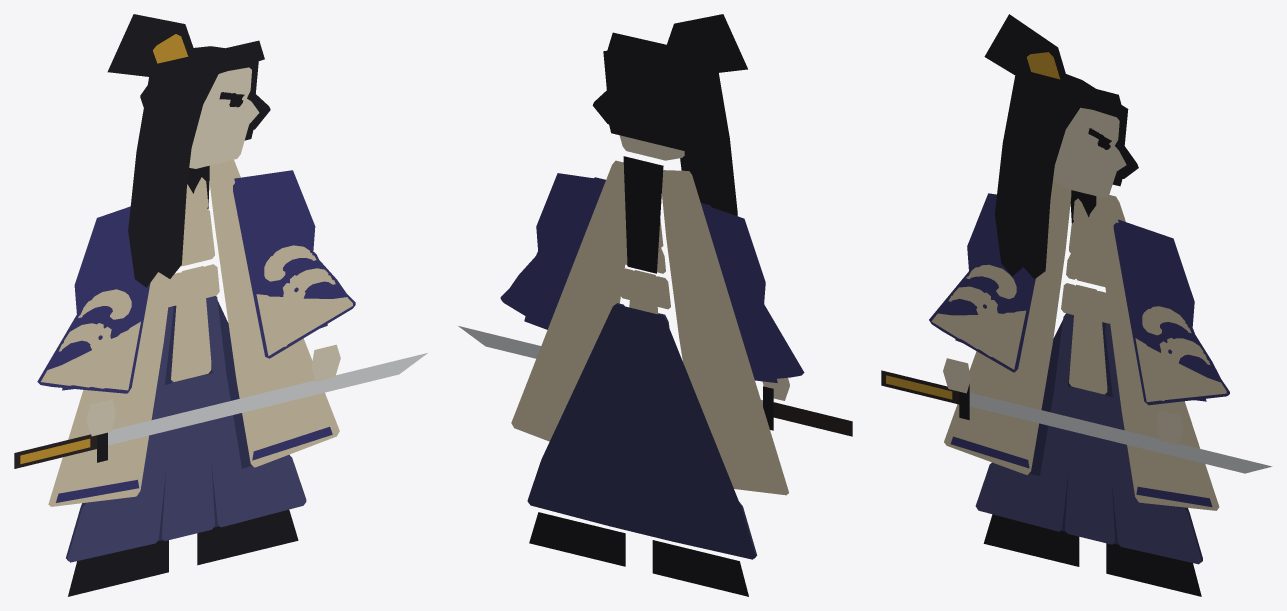
File: samurai-v4.glb
3 views of the same model, side by side, from view 1: azimuth 30°, elevation 25°; view 2: azimuth 150°, elevation 25°; view 3: azimuth 330°, elevation 25° (orthographic). The views are drawn at different scales.
Parts seen in each view (by area): view 1: sumi_hair, robe_L, kami_sleeve_L, robe_R, kami_sleeve_R, hakama_L, hakama_R, sword_paper, hakama_mid, face, kami_hair, feet_L (+10 smaller); view 2: hakama_back, robe_R, kami_hair, robe_L, sumi_sleeve_L, sumi_sleeve_R, sumi_hair, neck, feet_R, feet_L, sword_paper, kami_sleeve_R (+3 smaller); view 3: sumi_hair, robe_R, robe_L, kami_sleeve_L, kami_sleeve_R, hakama_R, hakama_L, sword_paper, hakama_mid, face, kami_hair, feet_R (+10 smaller).
Part boxes in pixels (<box>): sumi_hair: <box>128,40,264,287</box>; robe_L: <box>209,160,339,467</box>; kami_sleeve_L: <box>233,177,355,358</box>; robe_R: <box>48,272,171,506</box>; kami_sleeve_R: <box>37,227,150,393</box>; hakama_L: <box>203,296,306,527</box>; hakama_R: <box>67,306,174,562</box>; sword_paper: <box>14,353,427,468</box>; hakama_mid: <box>161,374,214,540</box>; face: <box>189,67,259,168</box>; kami_hair: <box>107,14,270,140</box>; feet_L: <box>197,509,298,565</box>; hakama_back: <box>527,304,755,559</box>; robe_R: <box>662,170,788,495</box>; kami_hair: <box>592,14,747,153</box>; robe_L: <box>511,160,625,441</box>; sumi_sleeve_L: <box>524,173,605,329</box>; sumi_sleeve_R: <box>701,204,777,382</box>; sumi_hair: <box>607,32,737,215</box>; neck: <box>623,156,663,273</box>; feet_R: <box>652,540,748,596</box>; feet_L: <box>529,512,625,566</box>; sword_paper: <box>458,326,852,436</box>; kami_sleeve_R: <box>701,203,804,378</box>; sumi_hair: <box>995,68,1123,279</box>; robe_R: <box>944,180,1071,474</box>; robe_L: <box>1096,195,1219,510</box>; kami_sleeve_L: <box>1113,222,1229,405</box>; kami_sleeve_R: <box>929,237,1035,372</box>; hakama_R: <box>975,313,1076,531</box>; hakama_L: <box>1104,323,1201,564</box>; sword_paper: <box>881,370,1272,473</box>; hakama_mid: <box>1065,387,1114,544</box>; face: <box>1053,107,1126,198</box>; kami_hair: <box>984,14,1138,186</box>; feet_R: <box>983,514,1079,566</box>.
Bounding box in the file's own units: 2.96 × 4 × 0.38.
